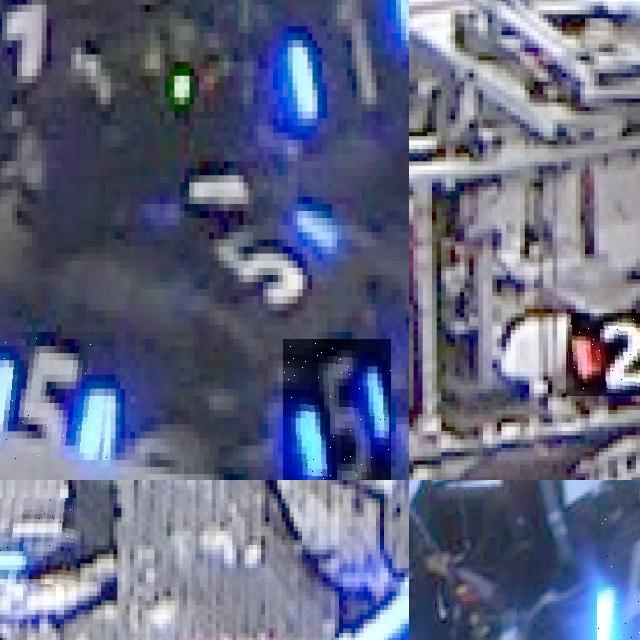B1: (0, 498, 76, 586)
B5: (282, 338, 391, 480), (0, 332, 115, 460), (596, 503, 640, 640)
R2: (566, 313, 640, 397)
